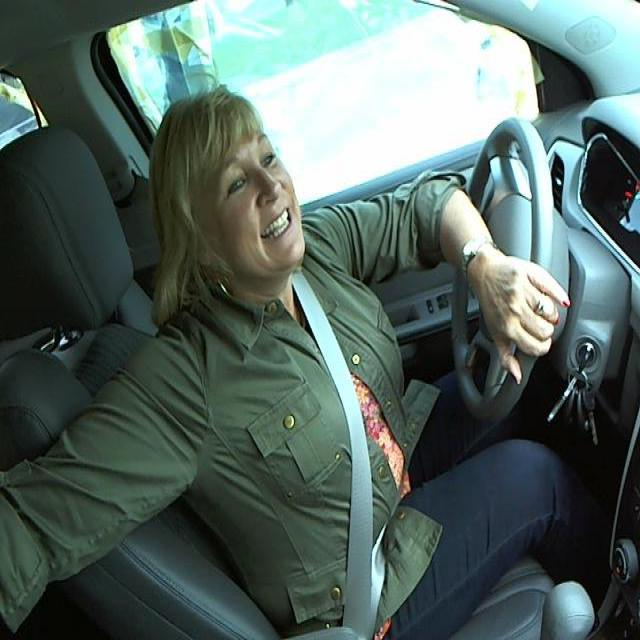seatbelt: (295, 305, 393, 628)
